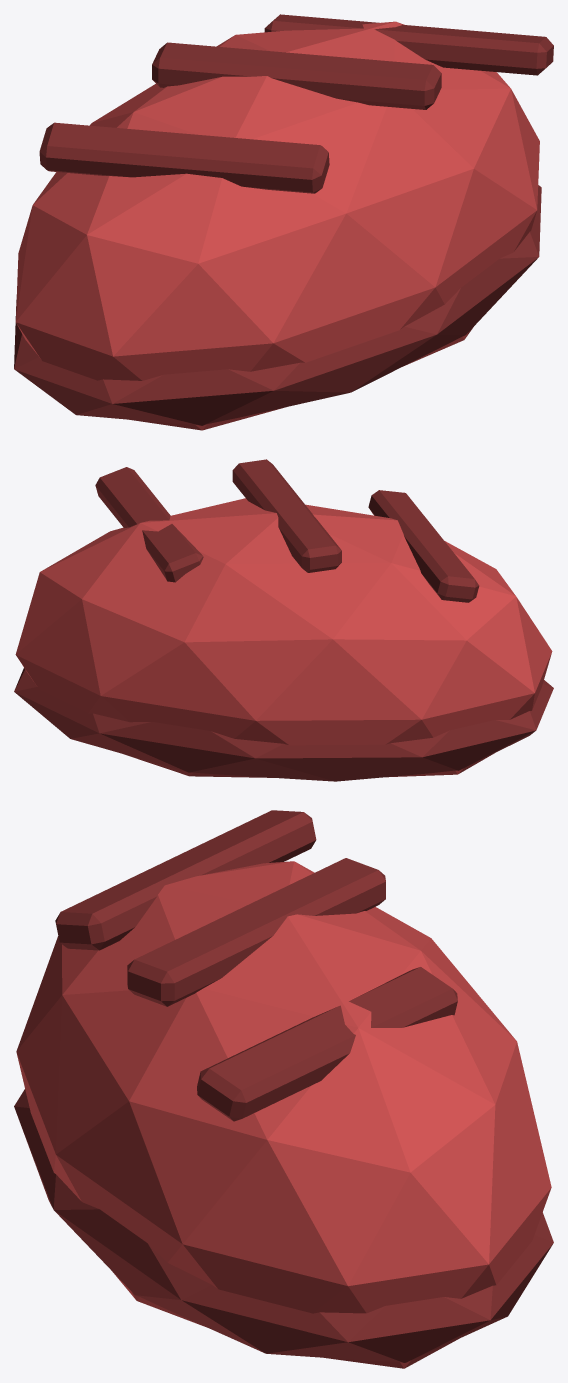
File: bread.glb
3 renders of one model, top to bottom at view 1: azimuth 30°, elevation 25°; view 2: azimuth 150°, elevation 25°; view 3: azimuth 270°, elevation 25°, orthographic. The views are drawn at different scales.
Parts seen in each view (by area): view 1: bread; view 2: bread; view 3: bread.
Part boxes in pixels (<box>): bread: <box>14,14,553,430</box>; bread: <box>14,459,553,781</box>; bread: <box>14,810,553,1368</box>.
Size of the model in its own units: 0.3269 by 0.162 by 0.2224.
